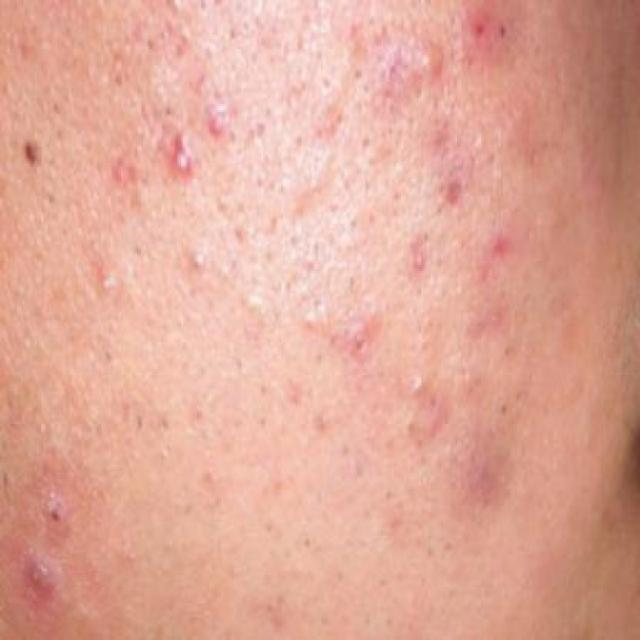acne: (406, 26, 451, 89), (80, 246, 128, 296), (32, 480, 70, 537), (489, 8, 526, 51), (194, 99, 234, 138), (402, 360, 436, 404), (236, 284, 270, 322), (169, 142, 202, 178), (464, 14, 494, 53), (300, 300, 332, 336), (186, 236, 209, 274)
